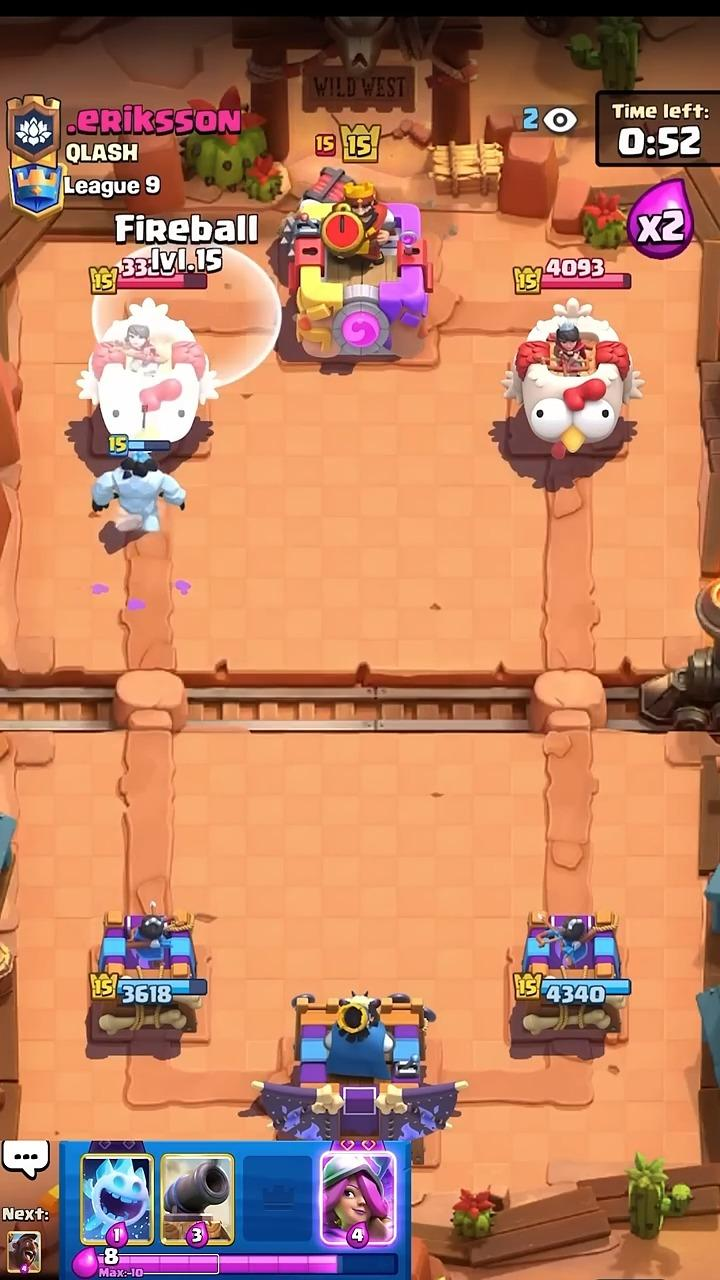ice golem: (92, 453, 186, 532)
sparky: (280, 167, 349, 257)
